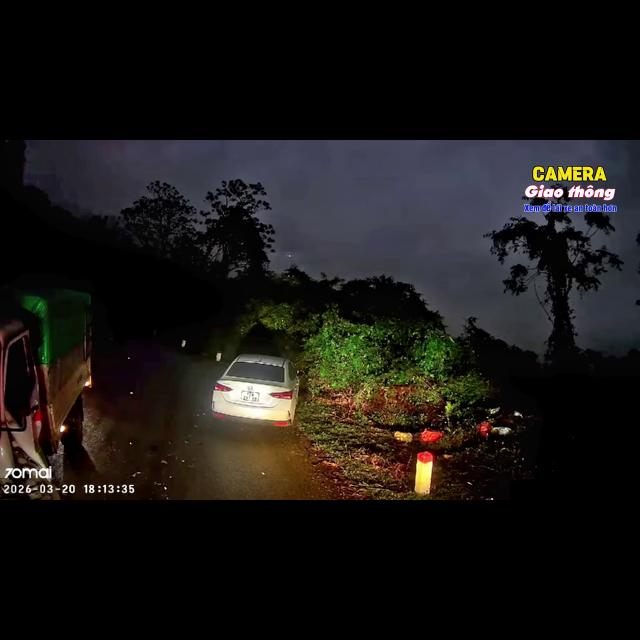car: (212, 354, 299, 426)
truck: (0, 288, 91, 498)
